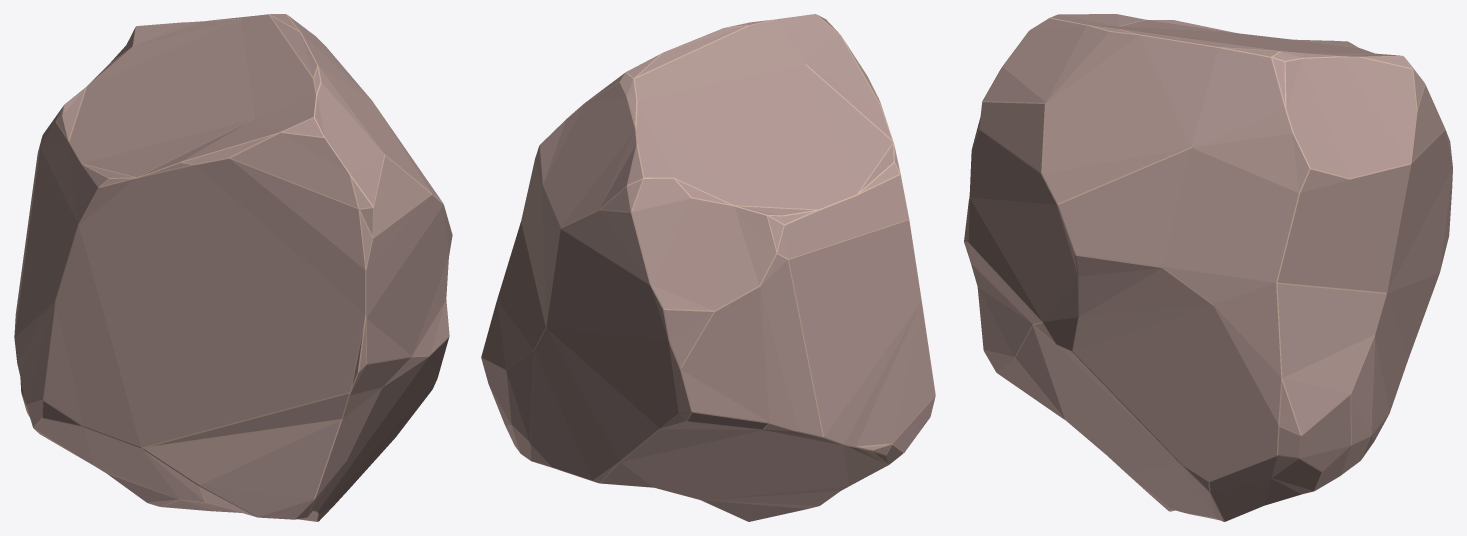
Rendered from rock-small-2.glb.
3 views of the same model, side by side, from view 1: azimuth 30°, elevation 25°; view 2: azimuth 150°, elevation 25°; view 3: azimuth 270°, elevation 25° (orthographic). The views are drawn at different scales.
Parts seen in each view (by area): view 1: rock-small-2; view 2: rock-small-2; view 3: rock-small-2.
Part boxes in pixels (x1,y1,x2,y2): rock-small-2: [14, 14, 452, 521]; rock-small-2: [481, 14, 935, 521]; rock-small-2: [964, 14, 1452, 521].
Size of the model in its own units: 0.917 by 0.9902 by 0.9349.
